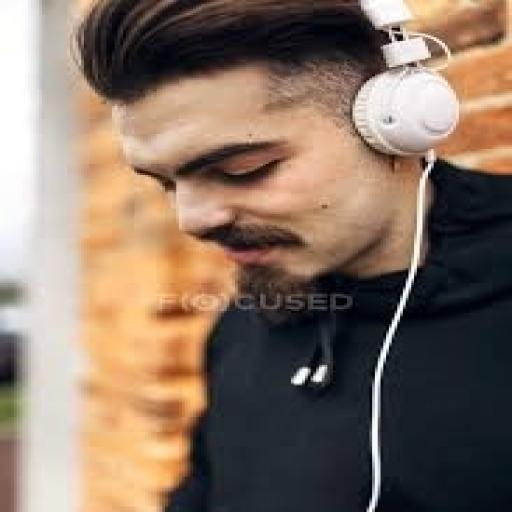listening_to_music: (70, 0, 509, 510)
